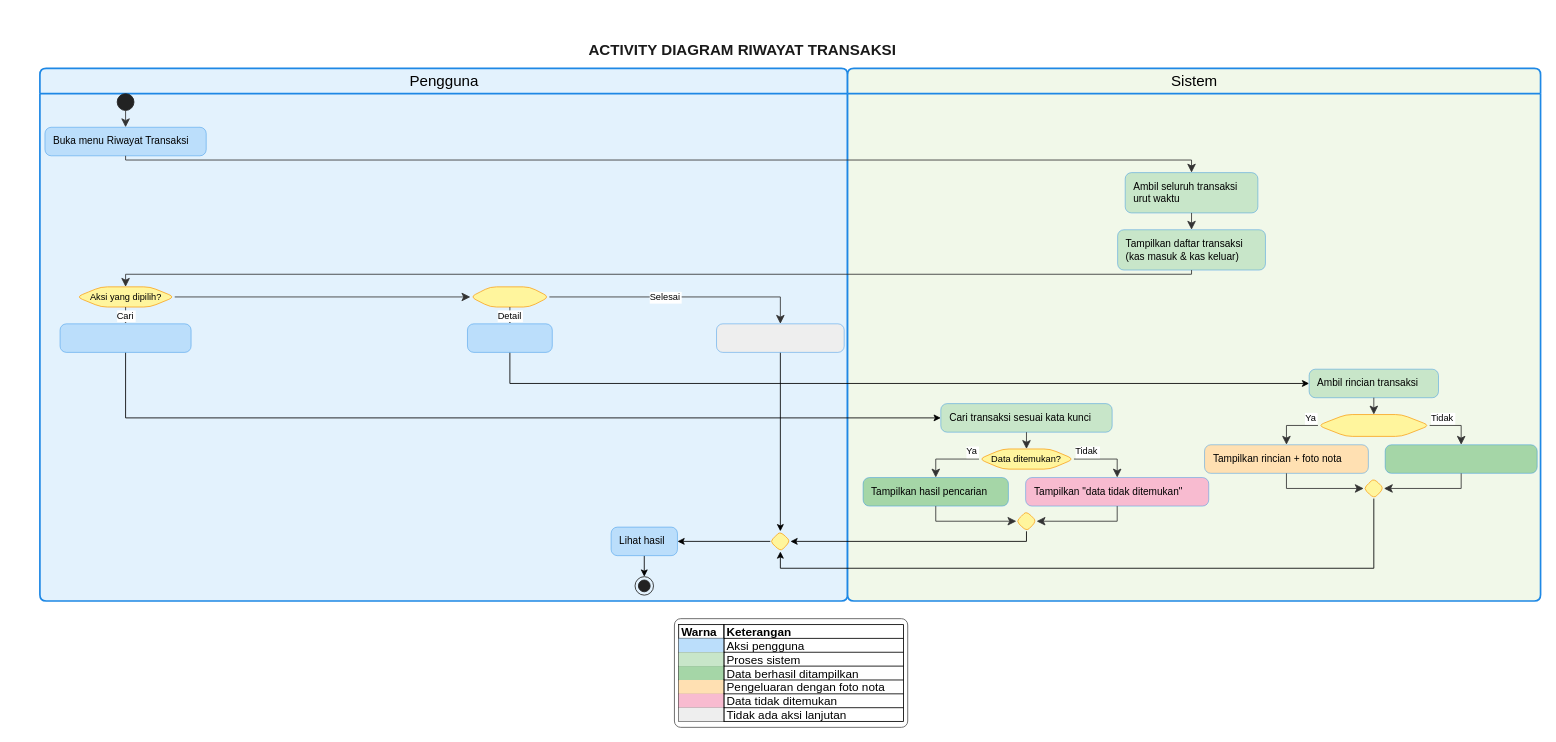
Some shapes in this 1556 by 742 pixel diagram are drawn without their labels. The shapes that lost their labels are listed below. From the top down, each one's centre as x and y in pixels, then its label:
(509,296): Lihat rincian?
(125,337): Input kata kunci / filter
(509,337): Pilih transaksi
(780,337): Tetap di daftar riwayat
(1373,425): Pengeluaran dengan foto nota?
(1461,458): Tampilkan rincian transaksi
